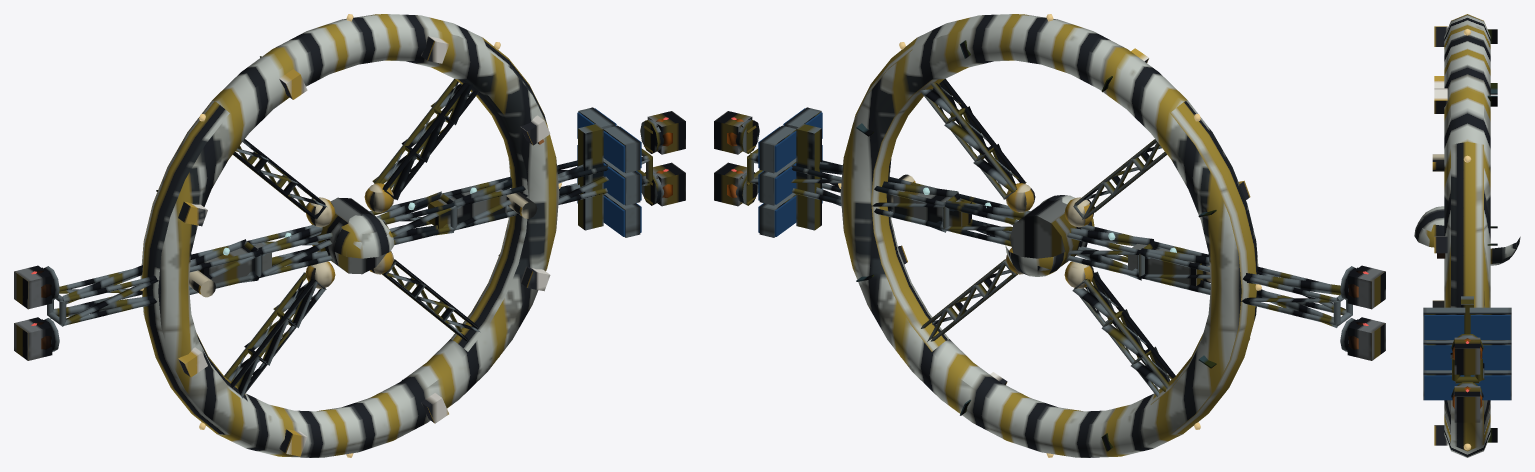
The model's file is station.glb.
3 views of the same model, side by side, from view 1: azimuth 30°, elevation 25°; view 2: azimuth 150°, elevation 25°; view 3: azimuth 270°, elevation 25° (orthographic). The views are drawn at different scales.
Parts seen in each view (by area): view 1: merged-c3ccca, merged-5d6a72, merged-6a7076, merged-ededea, merged-646a6c, merged-cfc7ae, merged-16324f; view 2: merged-c3ccca, merged-5d6a72, merged-646a6c, merged-6a7076, merged-16324f, merged-cfc7ae, merged-263c43; view 3: merged-c3ccca, merged-16324f, merged-5d6a72, merged-6a7076, merged-ededea, merged-263c43, merged-cfc7ae, merged-a56233, merged-e8c98a.
Boxes of the visible parts, x1,y1,x2,y2 form: merged-c3ccca: [140, 14, 559, 457]; merged-5d6a72: [43, 79, 663, 398]; merged-6a7076: [14, 111, 685, 360]; merged-ededea: [178, 36, 550, 456]; merged-646a6c: [41, 119, 658, 326]; merged-cfc7ae: [189, 183, 537, 297]; merged-16324f: [577, 108, 641, 236]; merged-c3ccca: [840, 14, 1258, 457]; merged-5d6a72: [736, 79, 1356, 396]; merged-646a6c: [741, 119, 1358, 326]; merged-6a7076: [714, 111, 1385, 360]; merged-16324f: [758, 108, 822, 236]; merged-cfc7ae: [886, 174, 1210, 288]; merged-263c43: [856, 40, 1216, 451]; merged-c3ccca: [1414, 14, 1520, 457]; merged-16324f: [1424, 315, 1510, 400]; merged-5d6a72: [1423, 296, 1511, 400]; merged-6a7076: [1454, 337, 1480, 422]; merged-ededea: [1434, 26, 1447, 445]; merged-263c43: [1487, 29, 1497, 442]; merged-cfc7ae: [1432, 154, 1444, 307]; merged-a56233: [1452, 338, 1482, 408]; merged-e8c98a: [1463, 29, 1471, 450].
Size of the model in its own units: 213 by 137 by 32.
Materials: 14 (10 with a texture image).
